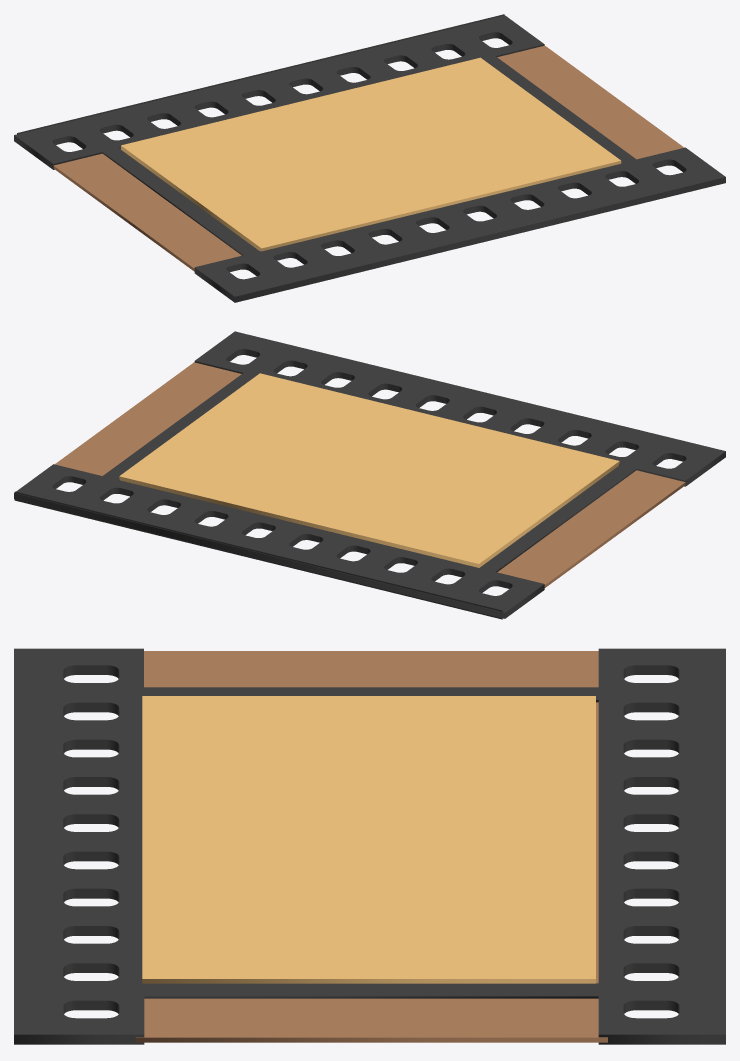
The model's file is emoji_u1f39e.glb.
The picture shows the model from 3 angles, top to bottom: view 1: azimuth 30°, elevation 25°; view 2: azimuth 150°, elevation 25°; view 3: azimuth 270°, elevation 25°; orthographic projection. The views are drawn at different scales.
Visible parts, largest first — view 1: emoji_u1f39e; view 2: emoji_u1f39e; view 3: emoji_u1f39e.
Part boxes in pixels (x1=…): emoji_u1f39e: x1=14, y1=14, x2=725, y2=302; emoji_u1f39e: x1=14, y1=331, x2=725, y2=619; emoji_u1f39e: x1=14, y1=648, x2=725, y2=1044.
Size of the model in its own units: 0.0339 by 0.0008 by 0.0264.
